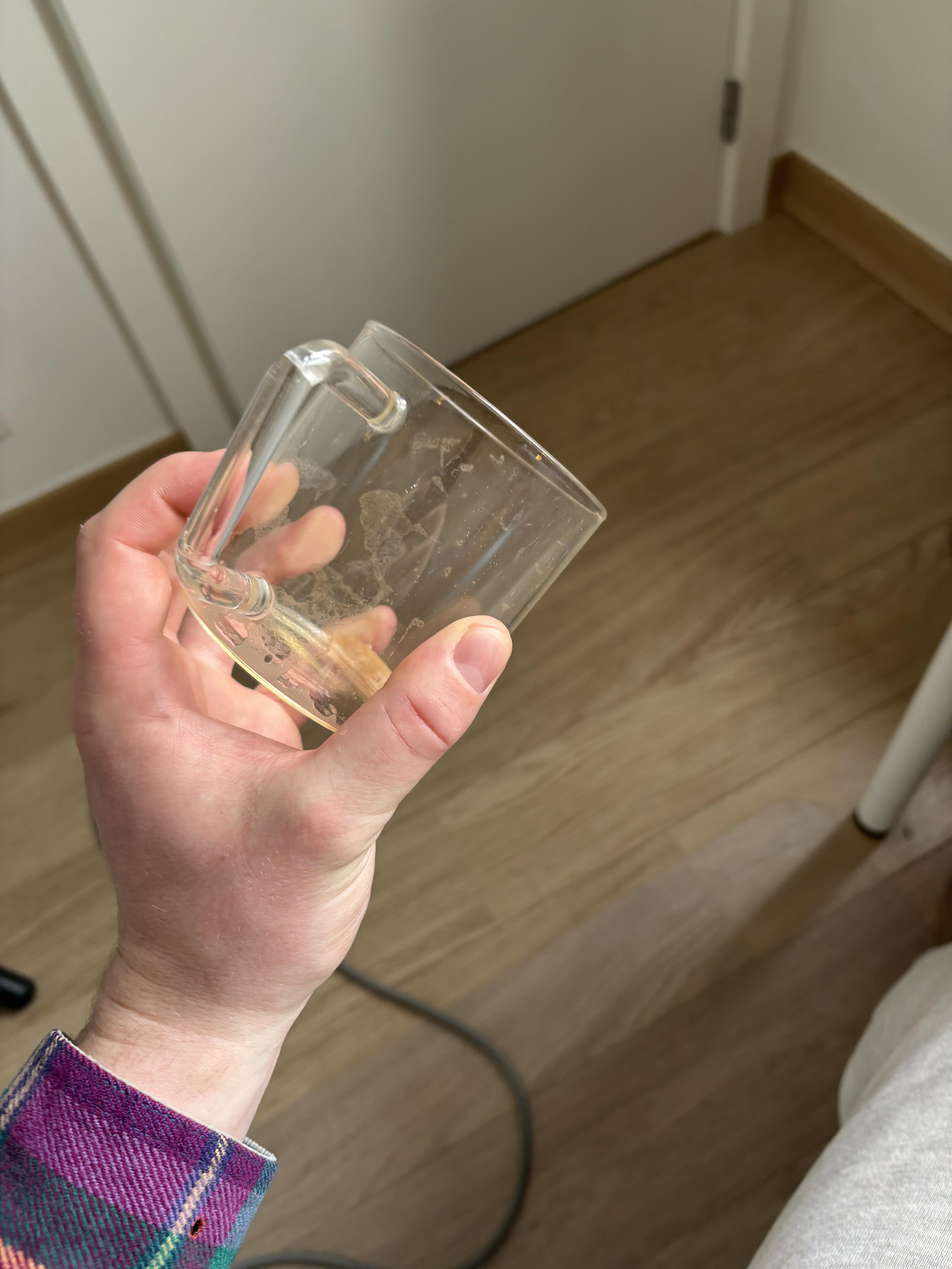Glass: (160, 298, 607, 735)
